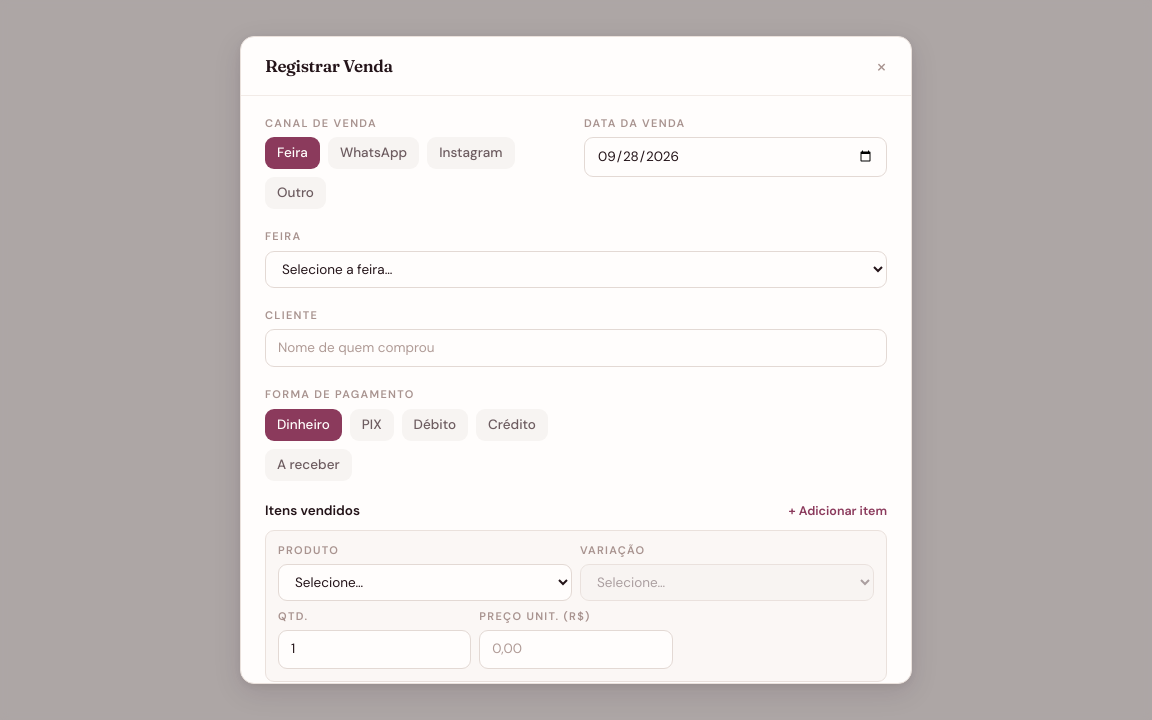
SaleForm: conferências antes de salvar › should_refuse_an_empty_sale_date
The width and height of the screenshot is (1152, 720).
Expected: the dropdown labelled "Produto" is shown, [278, 564, 572, 601]
Click the button "WhatsApp". click: {"x": 374, "y": 153}
box: [328, 137, 419, 169]
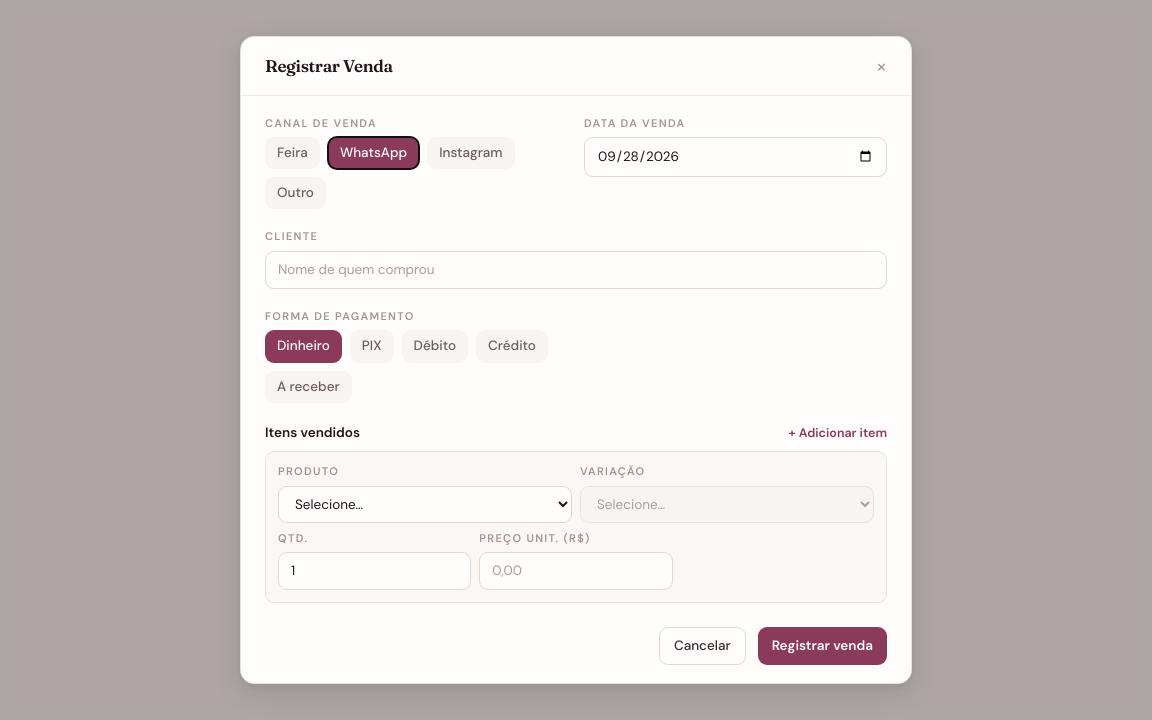
Select "Colar Aurora" in the dropdown labelled "Produto". click: {"x": 425, "y": 504}
box: [278, 486, 572, 523]
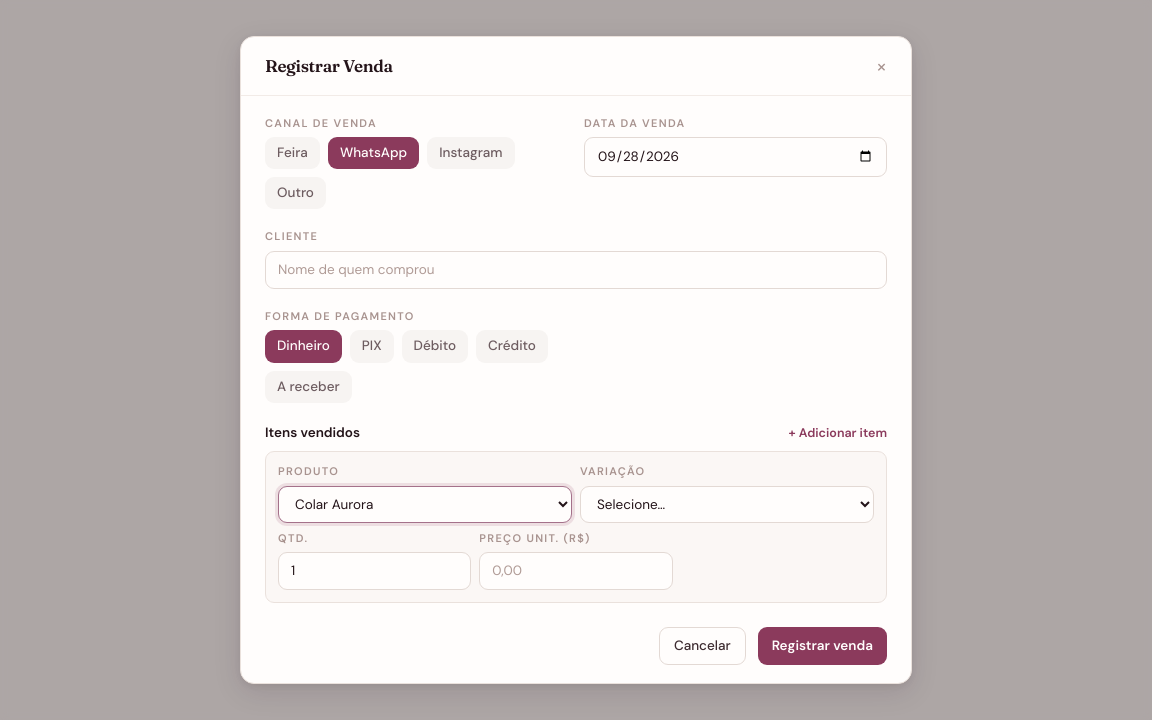
Select "Rosa (estoque: 4)" in the dropdown labelled "Variação". click: {"x": 727, "y": 504}
box: [580, 486, 874, 523]
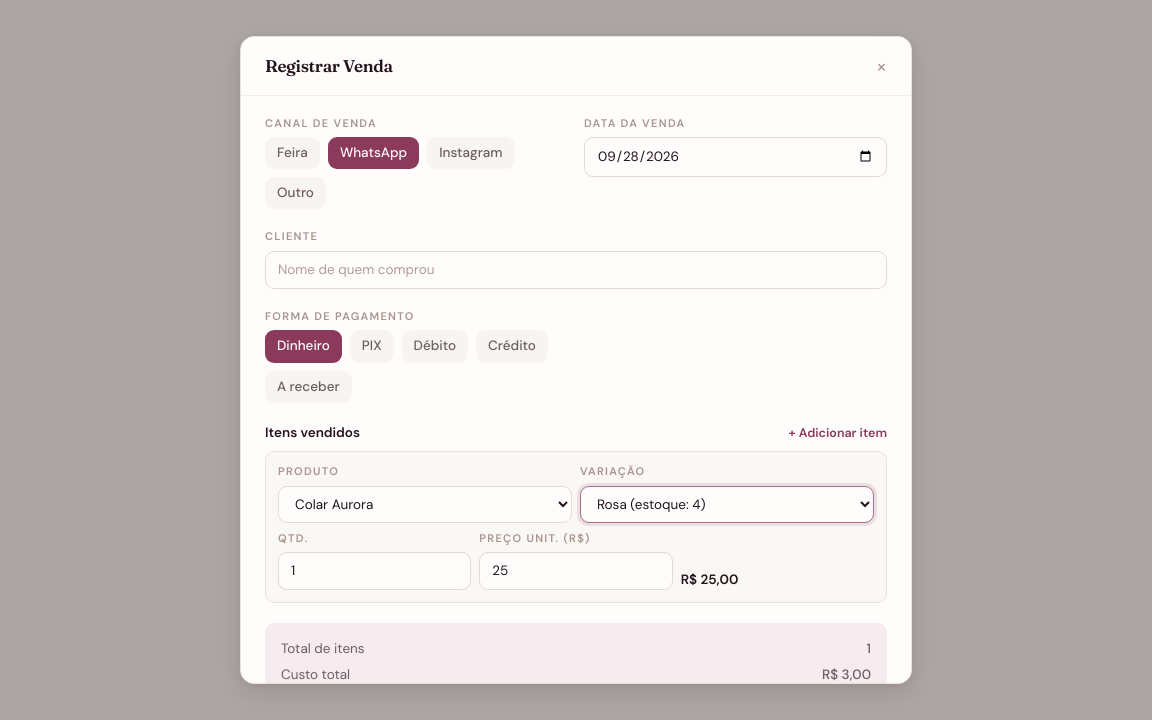
Clear the date field labelled "Data da venda". click: {"x": 736, "y": 157}
box: [584, 137, 887, 177]
(page scrolled)
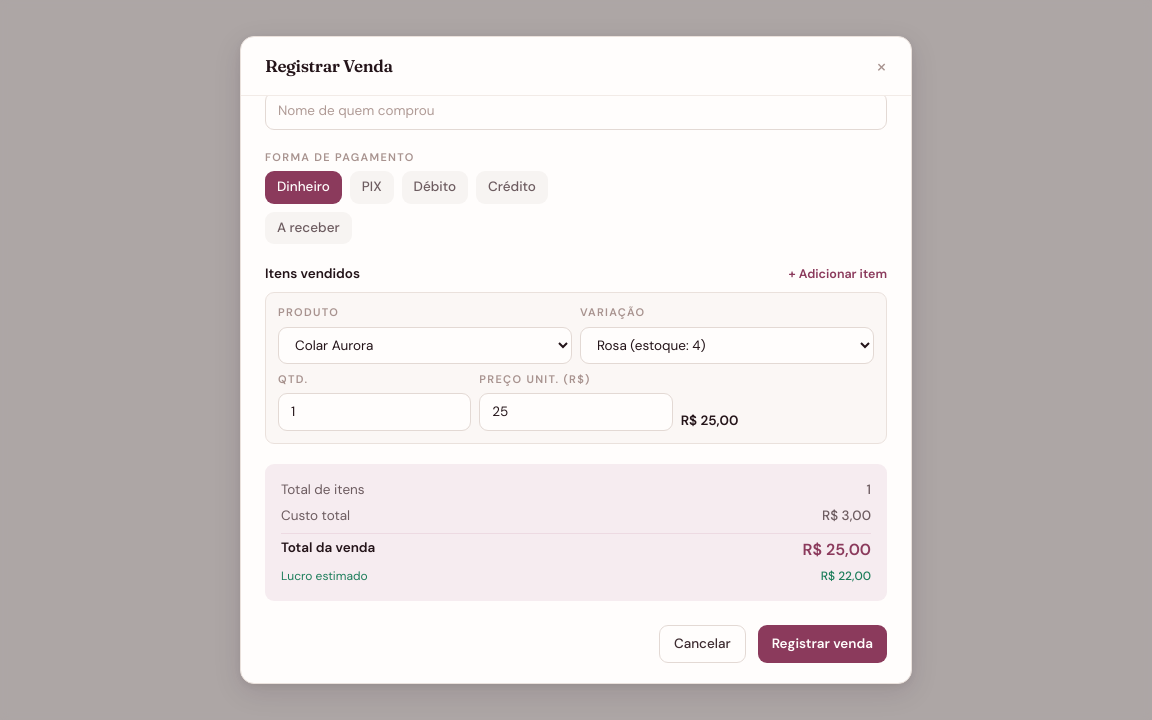
Click the button "Registrar venda". click: {"x": 822, "y": 644}
box: [758, 625, 887, 663]
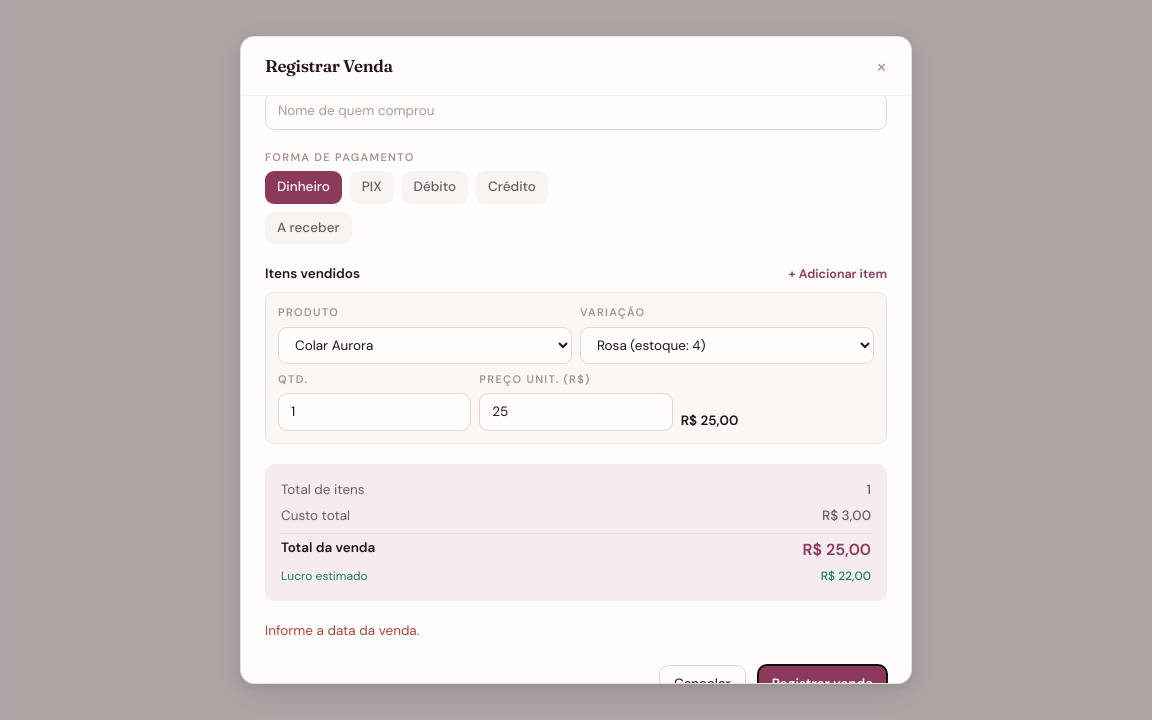
Expected: the text "Informe a data da venda." is shown, [265, 622, 419, 639]
